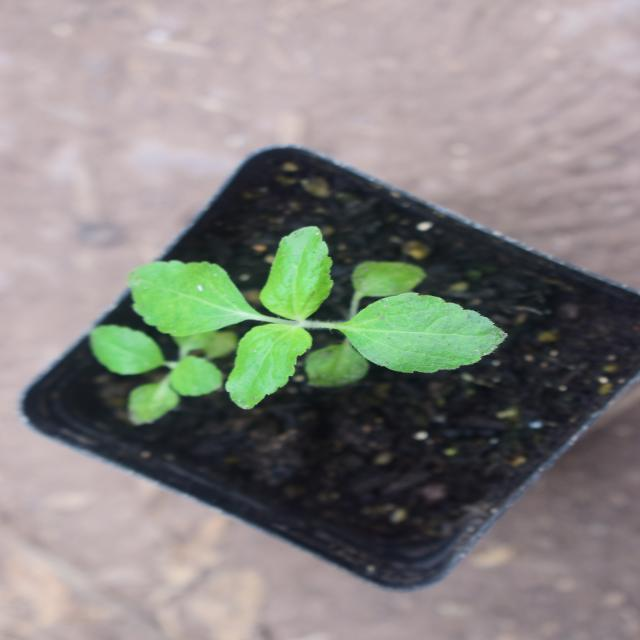billygoat_weed: (232, 119, 405, 497)
